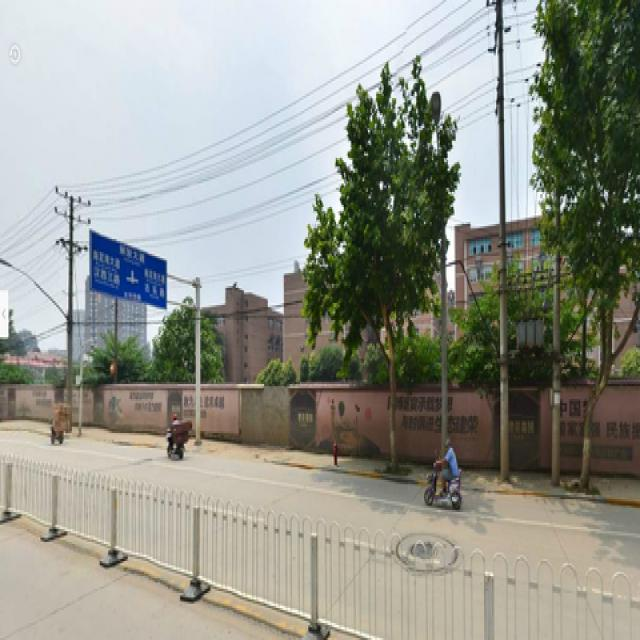meta: (314, 96, 442, 454)
